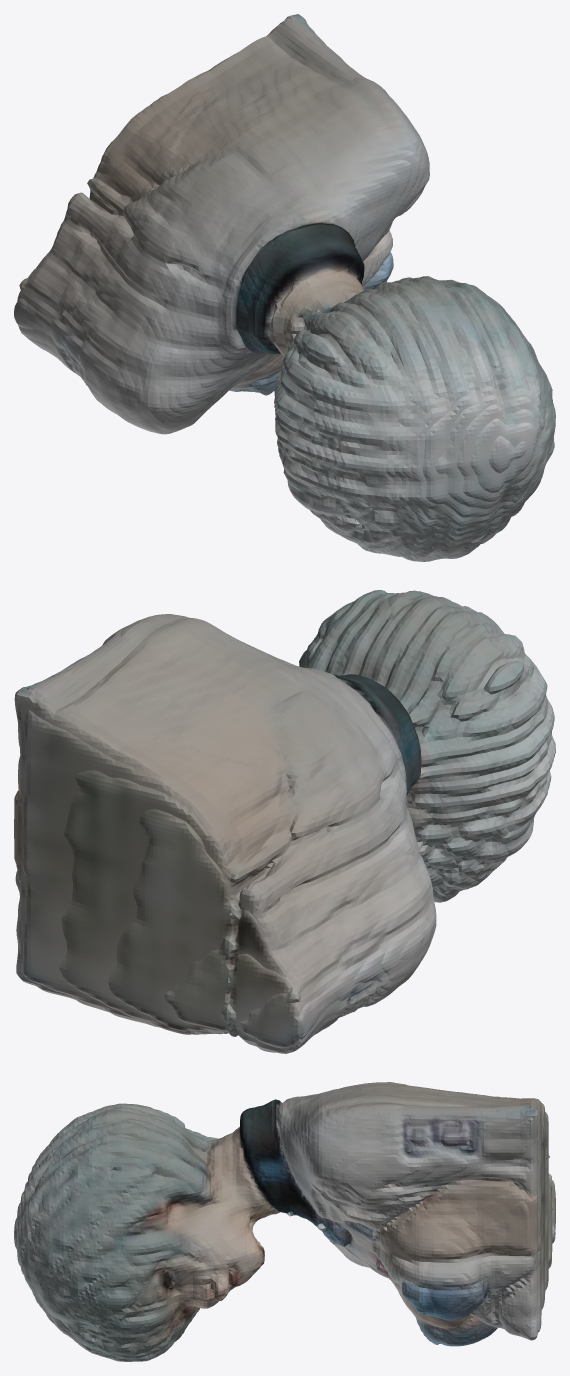
3 renders of one model, top to bottom at view 1: azimuth 30°, elevation 25°; view 2: azimuth 150°, elevation 25°; view 3: azimuth 270°, elevation 25°, orthographic. The views are drawn at different scales.
Visible parts, largest first — view 1: world; view 2: world; view 3: world.
Part boxes in pixels (box(x1,y1,x2,y2)): world: box(14, 14, 555, 561); world: box(14, 590, 555, 1053); world: box(14, 1082, 555, 1361).
Bounding box in the file's own units: 0.5918 × 0.605 × 1.03.
